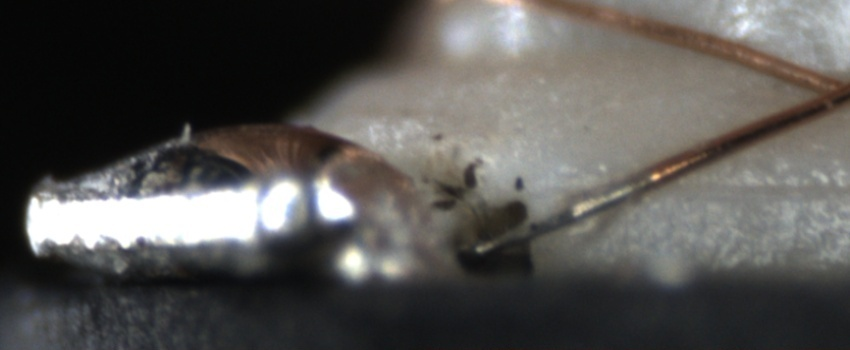DL: (683, 158, 849, 222)
TS: (472, 175, 654, 254)
TTCW: (470, 147, 707, 261)
